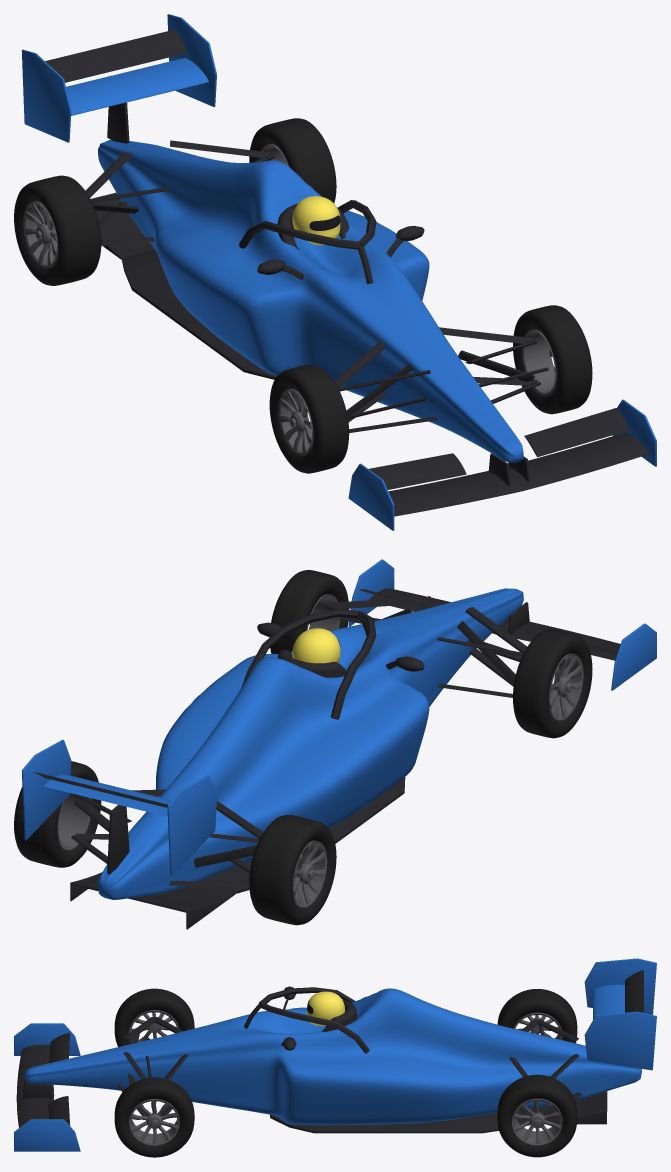
3 views of the same model, one above another, from view 1: azimuth 30°, elevation 25°; view 2: azimuth 150°, elevation 25°; view 3: azimuth 270°, elevation 25° (orthographic). The views are drawn at different scales.
Parts seen in each view (by area): view 1: body, carbon, tyre_RR, tyre_FR, tyre_FL, tyre_RL, rim_RR, rim_FR, rim_FL, helmet; view 2: body, carbon, tyre_RR, tyre_FR, tyre_FL, tyre_RL, rim_FR, rim_RR, helmet, rim_RL, rim_FL; view 3: body, carbon, tyre_RL, tyre_FL, tyre_FR, tyre_RR, rim_RL, rim_FL, helmet, rim_FR, rim_RR.
Part boxes in pixels (x1=…): body: x1=21, y1=14, x2=656, y2=530; carbon: x1=45, y1=29, x2=648, y2=516; tyre_RR: x1=14, y1=175, x2=101, y2=285; tyre_FR: x1=269, y1=364, x2=349, y2=473; tyre_FL: x1=513, y1=305, x2=592, y2=414; tyre_RL: x1=249, y1=118, x2=336, y2=203; rim_RR: x1=23, y1=201, x2=57, y2=268; rim_FR: x1=278, y1=389, x2=313, y2=455; rim_FL: x1=521, y1=329, x2=556, y2=396; helmet: x1=292, y1=196, x2=340, y2=245; body: x1=22, y1=559, x2=656, y2=899; carbon: x1=34, y1=588, x2=620, y2=929; tyre_RR: x1=249, y1=815, x2=336, y2=925; tyre_FR: x1=513, y1=629, x2=592, y2=738; tyre_FL: x1=270, y1=570, x2=349, y2=653; tyre_RL: x1=14, y1=761, x2=101, y2=867; rim_FR: x1=548, y1=653, x2=583, y2=720; rim_RR: x1=292, y1=840, x2=327, y2=907; helmet: x1=292, y1=628, x2=340, y2=663; rim_RL: x1=57, y1=793, x2=91, y2=849; rim_FL: x1=306, y1=594, x2=339, y2=630; body: x1=14, y1=958, x2=656, y2=1151; carbon: x1=16, y1=970, x2=643, y2=1133; tyre_RL: x1=497, y1=1074, x2=577, y2=1157; tyre_FL: x1=114, y1=1077, x2=194, y2=1157; tyre_FR: x1=114, y1=988, x2=194, y2=1046; tyre_RR: x1=497, y1=989, x2=577, y2=1043; rim_RL: x1=511, y1=1098, x2=562, y2=1145; rim_FL: x1=129, y1=1099, x2=179, y2=1145; helmet: x1=306, y1=991, x2=345, y2=1025; rim_FR: x1=129, y1=1010, x2=179, y2=1042; rim_RR: x1=513, y1=1012, x2=562, y2=1039.
Bounding box in the file's own units: 1.73 × 0.985 × 4.62.
